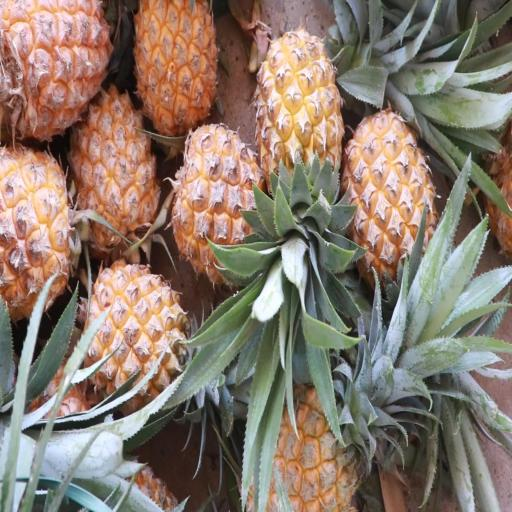Pineapple - v8 v1: (338, 110, 440, 305), (254, 28, 347, 224), (77, 258, 192, 416), (0, 1, 117, 151), (170, 121, 273, 290), (66, 80, 162, 256), (0, 141, 72, 324), (131, 0, 221, 146)
